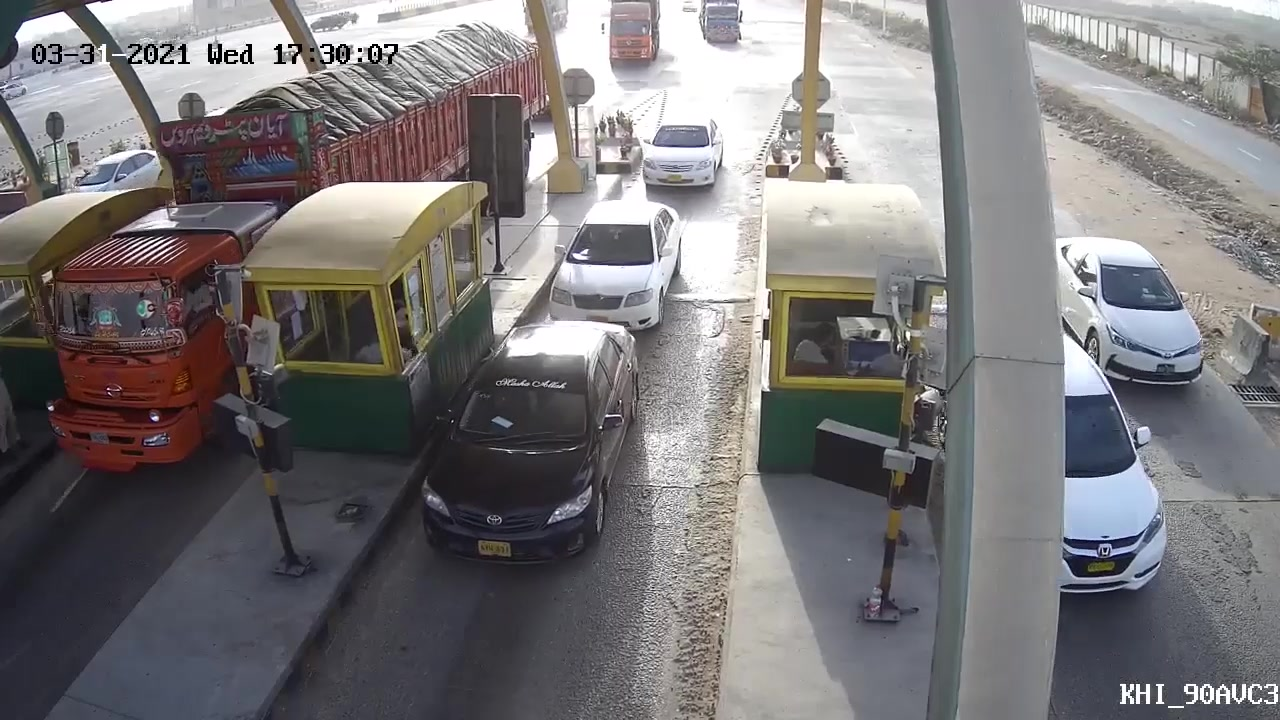F1: (408, 318, 638, 573), (539, 194, 693, 331)
